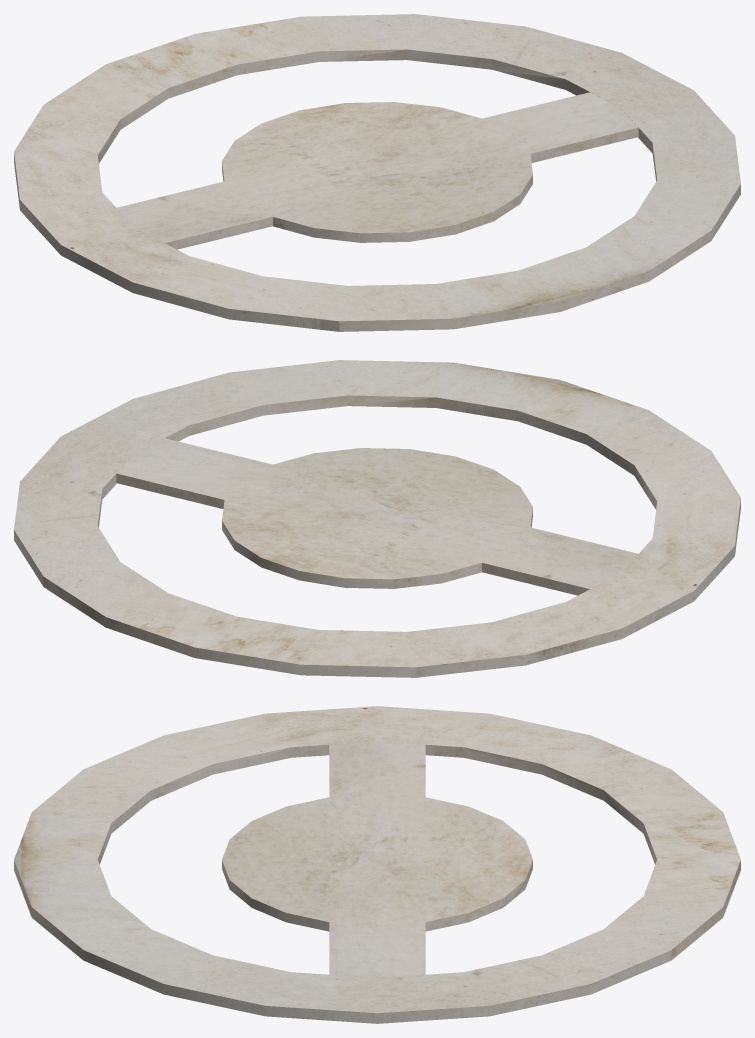
Rendered from recorrido.obj.
3 renders of one model, top to bottom at view 1: azimuth 30°, elevation 25°; view 2: azimuth 150°, elevation 25°; view 3: azimuth 270°, elevation 25°, orthographic.
Parts seen in each view (by area): view 1: pCylinder17; view 2: pCylinder17; view 3: pCylinder17.
Boxes of the visible parts, x1,y1,x2,y2 form: pCylinder17: (14, 14, 740, 331); pCylinder17: (14, 360, 740, 677); pCylinder17: (14, 706, 740, 1023).
Size of the model in its own units: 13.09 by 0.2099 by 13.09.
Materials: 1 (1 with a texture image).
